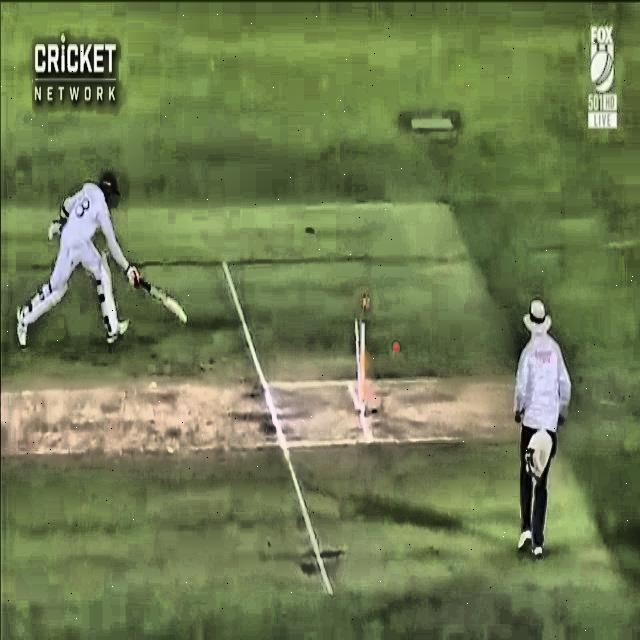Ball: (388, 332, 407, 364)
Bat: (119, 262, 191, 326)
Dis_Wicket: (335, 280, 383, 433)
Pitch_Line: (220, 260, 332, 596)
